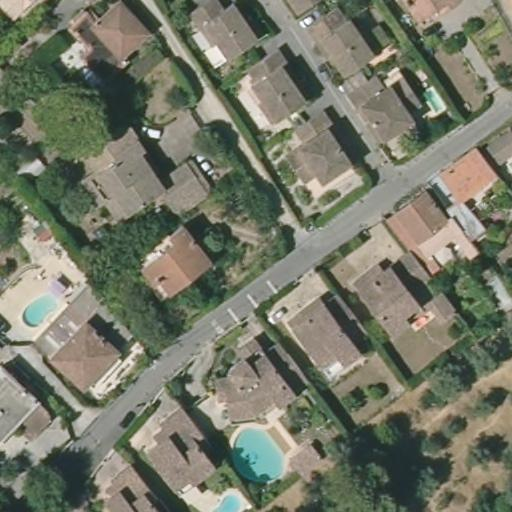pool: (225, 418, 289, 485), (18, 288, 61, 330), (211, 485, 255, 507)
